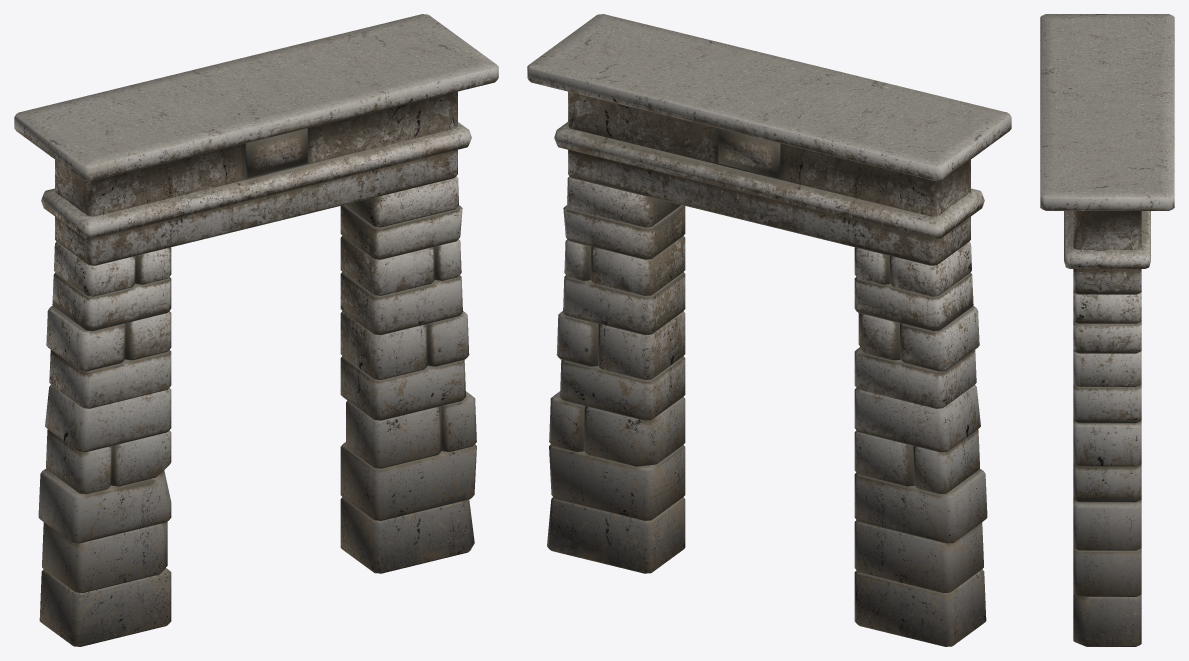
File: arch.FBX
3 renders of one model, left to right at view 1: azimuth 30°, elevation 25°; view 2: azimuth 150°, elevation 25°; view 3: azimuth 270°, elevation 25°, orthographic. The views are drawn at different scales.
Visible parts, largest first — view 1: Top, Box012, Box014, Box013, Box016, Box015, Box019, Box009, Box006, Box010, Box020, Box023 (+13 smaller); view 2: Top, Box013, Box012, Box014, Box016, Box015, Box019, Box009, Box010, Box006, Box020, Box023 (+13 smaller); view 3: Top, Box013, Box011, Box012, Box008, Box006, Box009, Box005, Box003, Box002.
Boxes of the visible parts, x1=… form: Top: x1=14, y1=14, x2=498, y2=265; Box012: x1=340, y1=442, x2=476, y2=520; Box014: x1=39, y1=568, x2=171, y2=646; Box013: x1=340, y1=497, x2=474, y2=573; Box016: x1=38, y1=469, x2=171, y2=543; Box015: x1=42, y1=522, x2=167, y2=593; Box019: x1=45, y1=385, x2=171, y2=452; Box009: x1=340, y1=356, x2=465, y2=420; Box006: x1=340, y1=272, x2=462, y2=335; Box010: x1=346, y1=400, x2=442, y2=468; Box020: x1=49, y1=350, x2=171, y2=408; Box023: x1=52, y1=272, x2=171, y2=331; Top: x1=527, y1=14, x2=1011, y2=265; Box013: x1=547, y1=497, x2=685, y2=573; Box012: x1=549, y1=444, x2=685, y2=520; Box014: x1=854, y1=569, x2=986, y2=646; Box016: x1=854, y1=469, x2=987, y2=543; Box015: x1=854, y1=520, x2=983, y2=593; Box019: x1=854, y1=385, x2=980, y2=452; Box009: x1=560, y1=356, x2=685, y2=420; Box010: x1=583, y1=396, x2=685, y2=466; Box006: x1=563, y1=272, x2=685, y2=335; Box020: x1=854, y1=347, x2=976, y2=408; Box023: x1=854, y1=272, x2=973, y2=331; Top: x1=1040, y1=14, x2=1174, y2=294; Box013: x1=1073, y1=594, x2=1141, y2=646; Box011: x1=1073, y1=499, x2=1141, y2=550; Box012: x1=1073, y1=548, x2=1141, y2=596; Box008: x1=1073, y1=420, x2=1141, y2=466; Box006: x1=1073, y1=384, x2=1141, y2=423; Box009: x1=1073, y1=464, x2=1141, y2=502; Box005: x1=1073, y1=351, x2=1141, y2=386; Box003: x1=1073, y1=321, x2=1141, y2=353; Box002: x1=1073, y1=292, x2=1141, y2=323.
Size of the model in its own units: 434 by 497 by 134.
